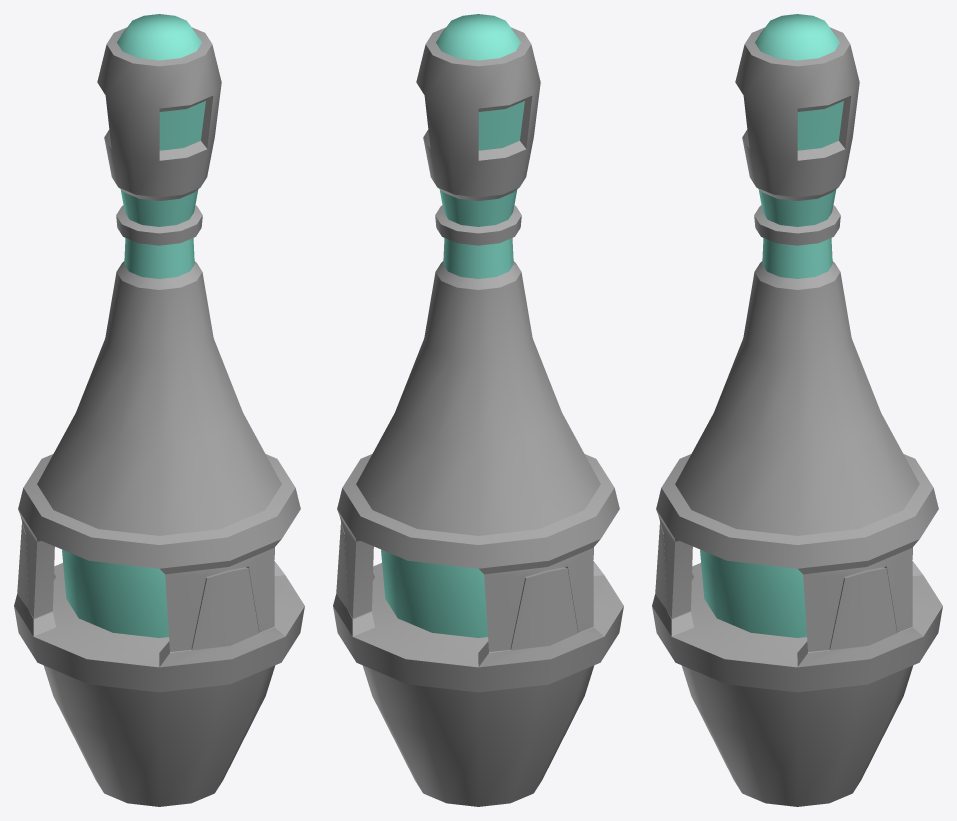
Rendered from m_Pin 1.fbx.
The picture shows the model from 3 angles, left to right: view 1: azimuth 30°, elevation 25°; view 2: azimuth 150°, elevation 25°; view 3: azimuth 270°, elevation 25°; orthographic projection.
Visible parts, largest first — view 1: m_Pin1; view 2: m_Pin1; view 3: m_Pin1.
Part boxes in pixels (box(x1,y1,x2,y2)): m_Pin1: box(14, 14, 304, 806); m_Pin1: box(333, 14, 623, 806); m_Pin1: box(652, 14, 942, 806).
Bounding box in the file's own units: 13.27 × 37.96 × 13.27.
